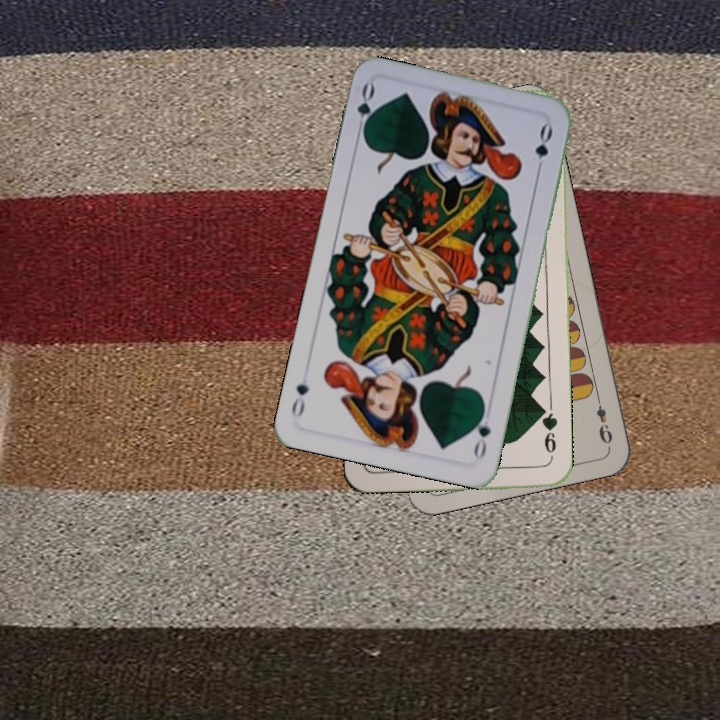E9: (592, 391, 615, 447)
G9: (536, 404, 560, 463)
GO: (352, 79, 379, 140), (469, 403, 494, 462)
